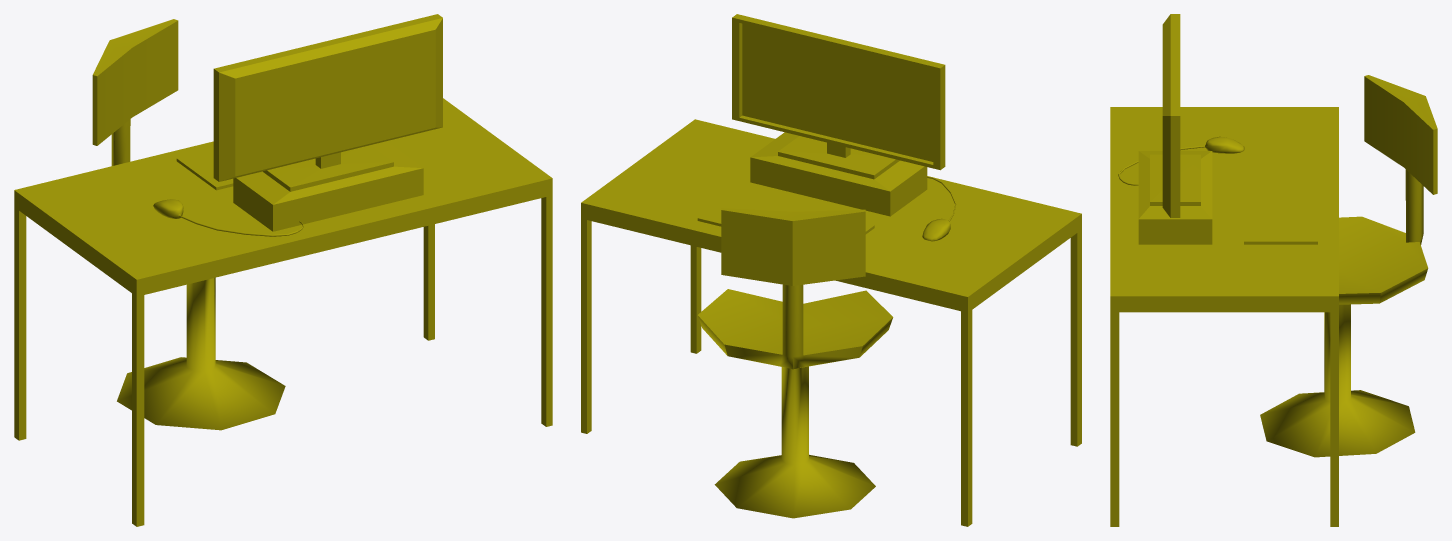
The model's file is MOD_ LOBBY scanner desk.fbx.
3 views of the same model, side by side, from view 1: azimuth 30°, elevation 25°; view 2: azimuth 150°, elevation 25°; view 3: azimuth 270°, elevation 25° (orthographic). The views are drawn at different scales.
Parts seen in each view (by area): view 1: guard_table_2, monitor3, chair1, keyboard, mouse; view 2: guard_table_2, monitor3, chair1, keyboard, mouse; view 3: guard_table_2, chair1, monitor3, keyboard, mouse.
Boxes of the visible parts, left/top/right/bottom form: guard_table_2: left=14, top=98, right=552, bottom=526; monitor3: left=213, top=14, right=442, bottom=231; chair1: left=92, top=19, right=285, bottom=430; keyboard: left=176, top=149, right=233, bottom=190; mouse: left=153, top=199, right=303, bottom=236; guard_table_2: left=581, top=119, right=1081, bottom=526; monitor3: left=732, top=14, right=945, bottom=216; chair1: left=697, top=208, right=893, bottom=518; keyboard: left=697, top=191, right=874, bottom=234; mouse: left=922, top=176, right=956, bottom=241; guard_table_2: left=1110, top=107, right=1338, bottom=526; chair1: left=1260, top=75, right=1437, bottom=457; monitor3: left=1138, top=14, right=1212, bottom=244; keyboard: left=1244, top=173, right=1317, bottom=244; mouse: left=1118, top=136, right=1244, bottom=185.
Size of the model in its own units: 143 by 133 by 104.
